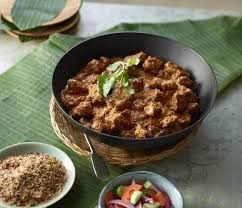rendang: (54, 37, 217, 144)
